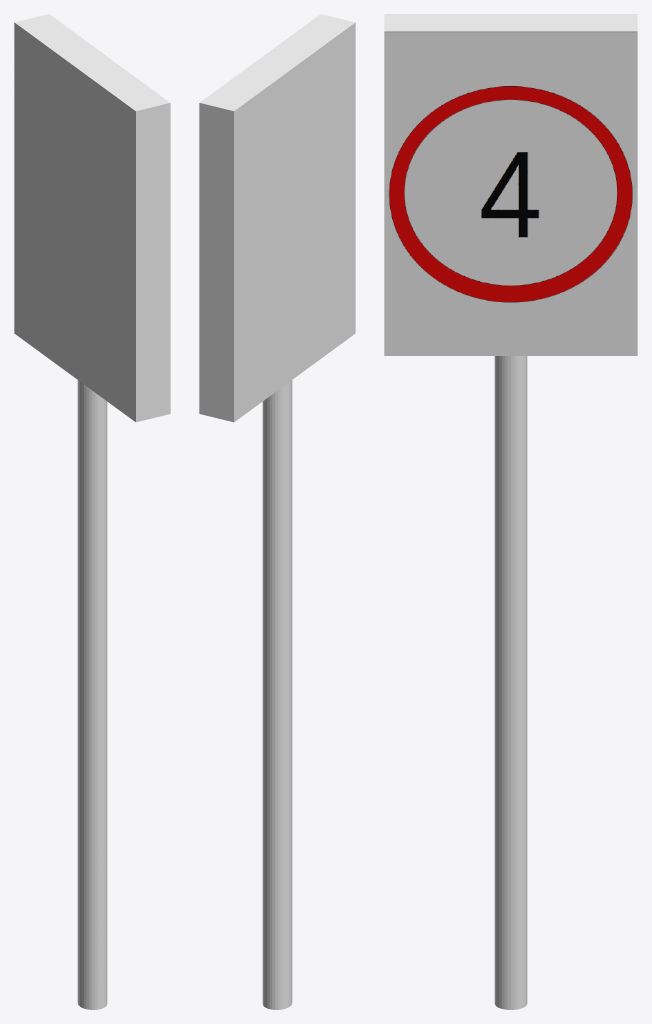
File: sign4.dae
3 renders of one model, left to right at view 1: azimuth 30°, elevation 25°; view 2: azimuth 150°, elevation 25°; view 3: azimuth 270°, elevation 25°, orthographic. The views are drawn at different scales.
Parts seen in each view (by area): view 1: Cube; view 2: Cube; view 3: Cube.
Boxes of the visible parts, box(x1,y1,x2,y2) form: Cube: box(14, 14, 170, 1009); Cube: box(199, 14, 355, 1009); Cube: box(384, 14, 637, 1009).
Bounding box in the file's own units: 0.0692 × 0.42 × 1.8.
